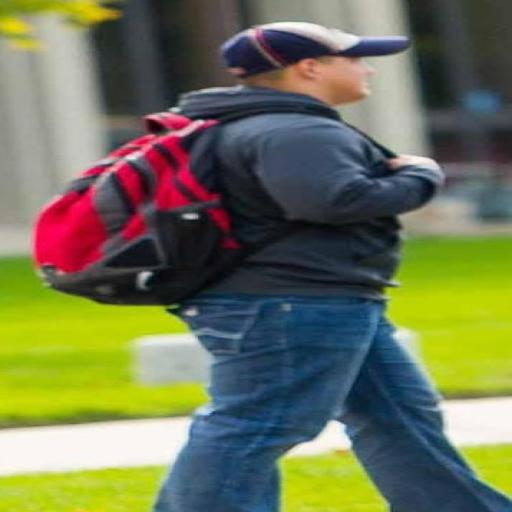person: (154, 22, 511, 511)
